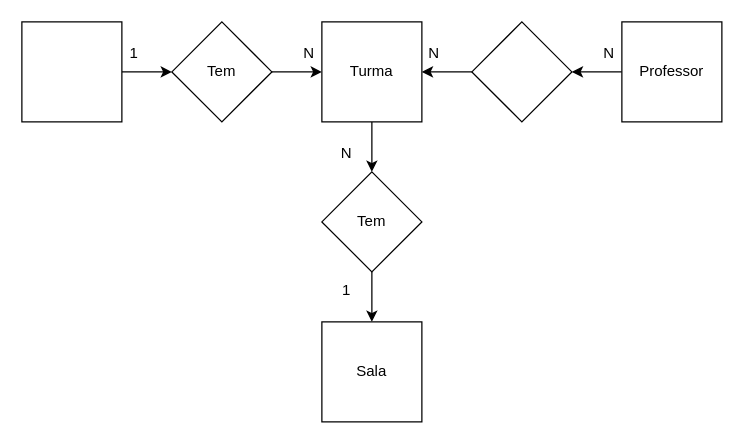
This 744x444 diagram has some shape labels left out. The box of each missing label's shape, as (x1, y1, x2, y2) in pixels:
Escola: (21, 21, 122, 122)
Ministra Aula: (471, 21, 572, 122)
